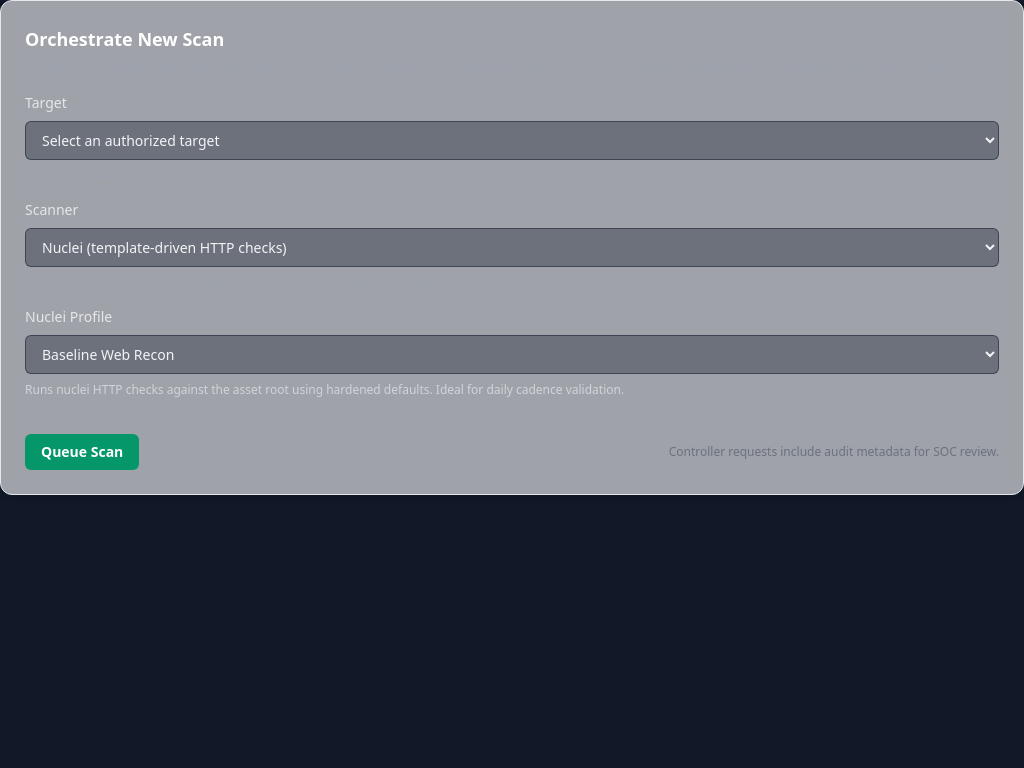
it: ScanLaunchForm › requires a target to be selected before submission
The width and height of the screenshot is (1024, 768).
Click the button "Queue Scan". click: (82, 452)
box: [25,434,139,470]
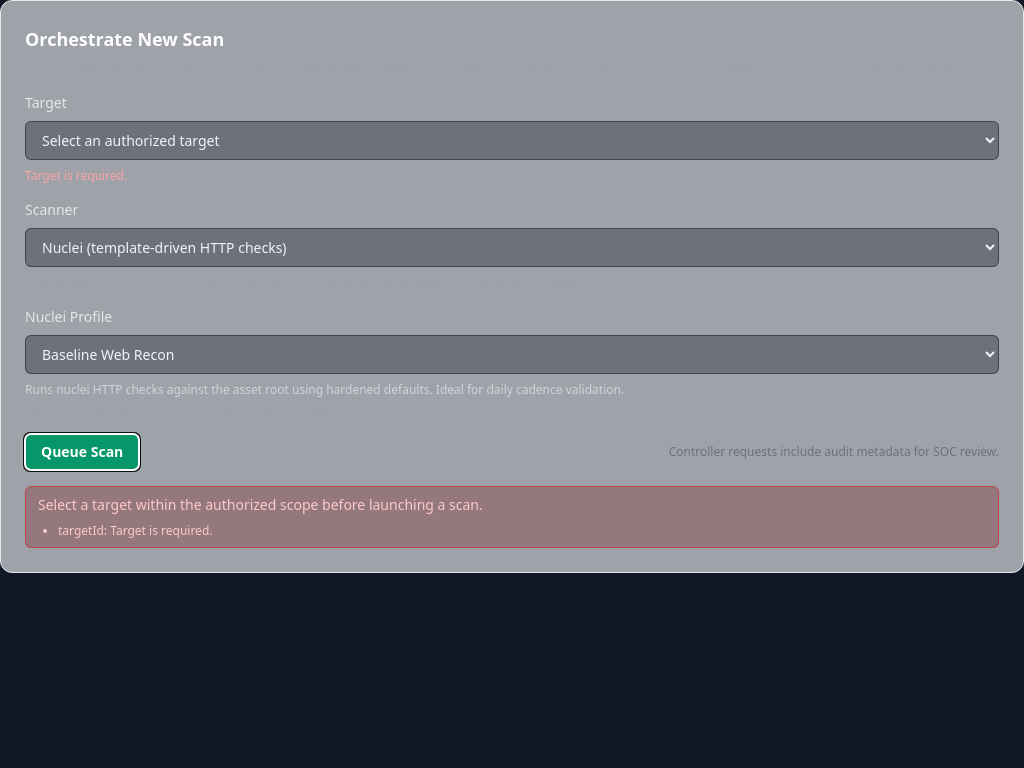
Check: the text "Select a target within the authorized scope before launching a scan." is shown, box [38,495,483,514]
